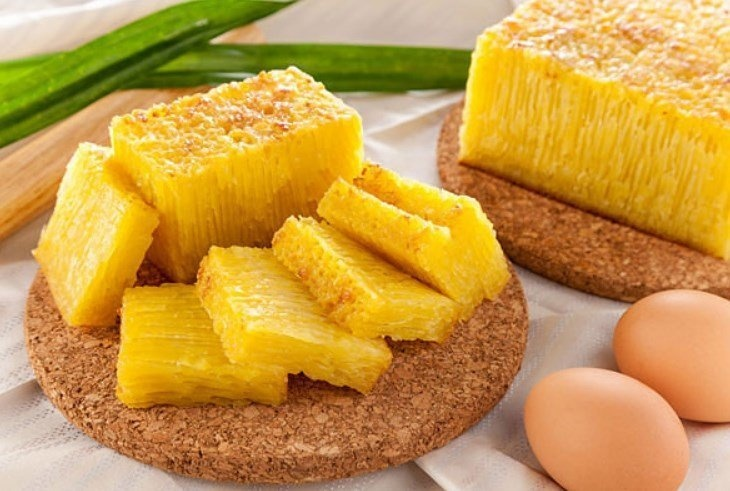bika_ambon: (93, 165, 500, 409), (445, 23, 730, 259), (154, 135, 384, 272), (23, 133, 135, 336)
